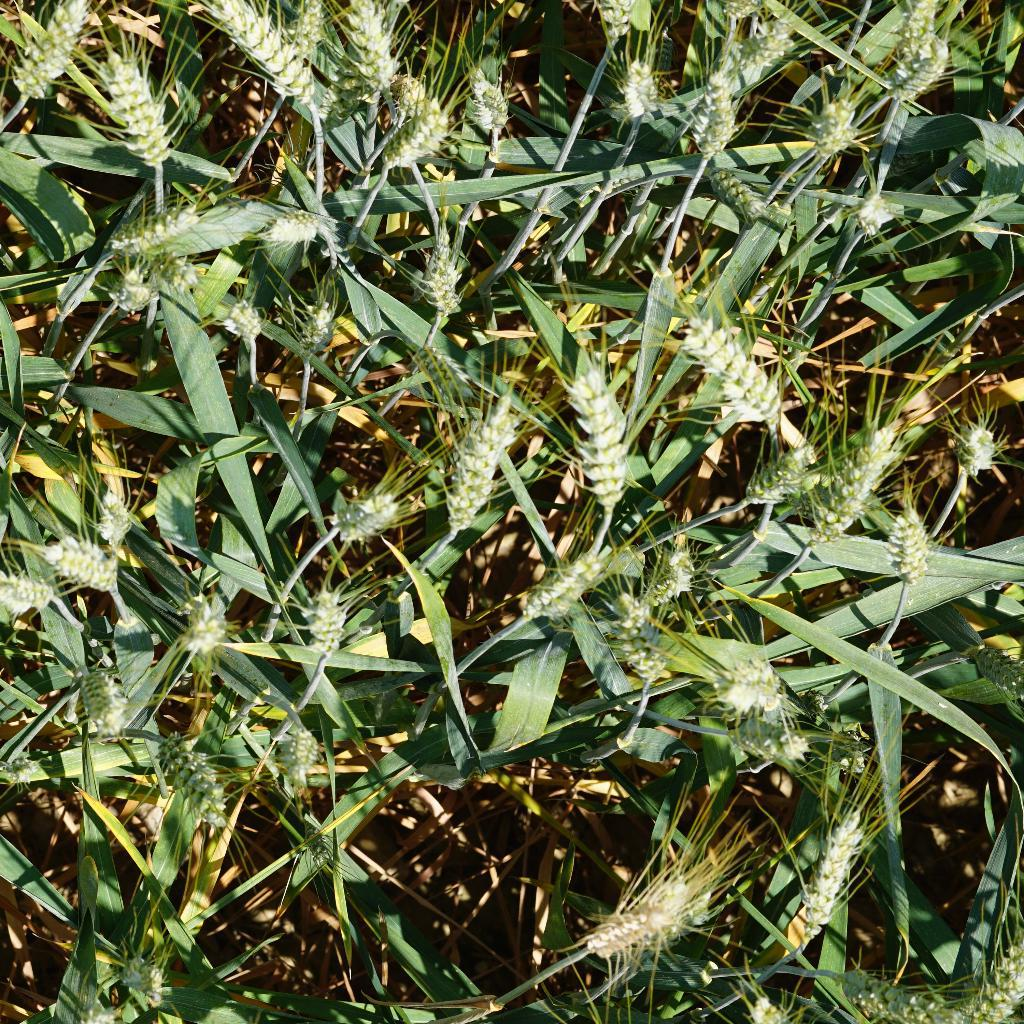0-0: (654, 296, 789, 432), (792, 413, 908, 548), (206, 0, 325, 112), (560, 357, 642, 515), (443, 388, 518, 545), (590, 860, 698, 967), (89, 44, 176, 172), (798, 813, 885, 938), (144, 724, 240, 836), (6, 0, 98, 102), (309, 31, 386, 150), (828, 960, 963, 1024), (86, 197, 208, 265), (373, 90, 460, 174), (520, 537, 598, 628), (698, 149, 785, 227), (70, 645, 135, 746), (421, 234, 485, 336), (950, 933, 1020, 1024), (32, 529, 130, 593), (729, 441, 813, 512), (406, 337, 484, 413), (311, 482, 397, 549), (879, 497, 940, 590), (713, 650, 793, 720), (701, 27, 804, 81), (944, 408, 1009, 492), (886, 34, 952, 115), (347, 0, 407, 88), (686, 75, 744, 165), (75, 486, 152, 552), (269, 0, 321, 92), (266, 718, 329, 792), (275, 292, 344, 359), (175, 576, 228, 660), (464, 67, 519, 145), (798, 90, 856, 161), (639, 549, 701, 610), (621, 641, 684, 701), (0, 564, 62, 624), (843, 179, 901, 242), (109, 944, 168, 1005), (604, 580, 661, 641), (610, 60, 664, 124), (221, 295, 275, 357), (737, 982, 815, 1024), (888, 0, 945, 55), (157, 243, 209, 302), (265, 200, 326, 250), (305, 587, 348, 657), (594, 0, 672, 38), (56, 979, 119, 1024), (823, 727, 873, 782), (295, 812, 335, 872), (112, 258, 152, 317), (380, 70, 426, 120), (709, 0, 778, 32), (0, 755, 40, 789), (0, 55, 15, 142)
